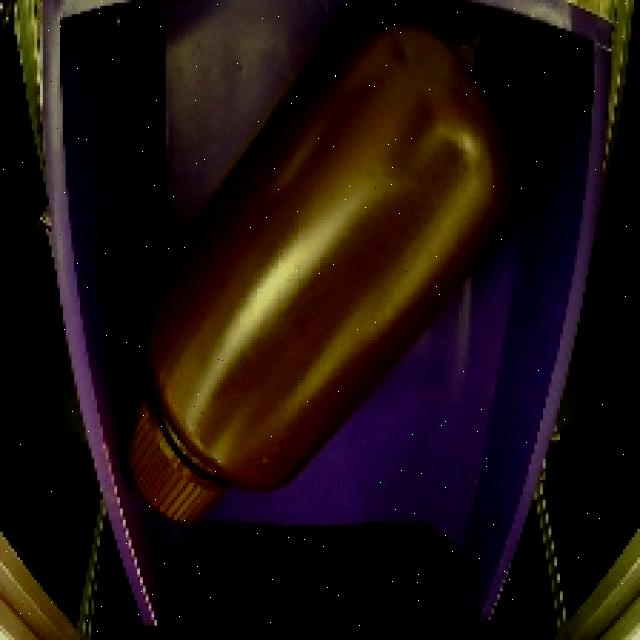plastic: (98, 2, 540, 555)
